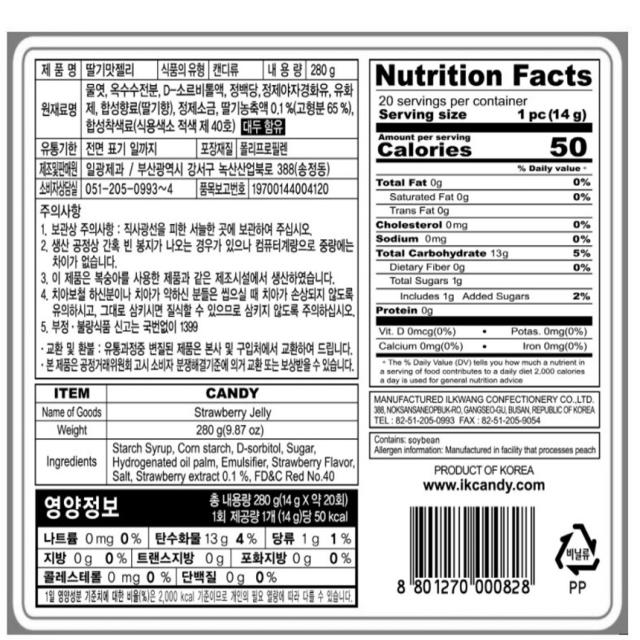Nutrition Label: (34, 487, 370, 621)
